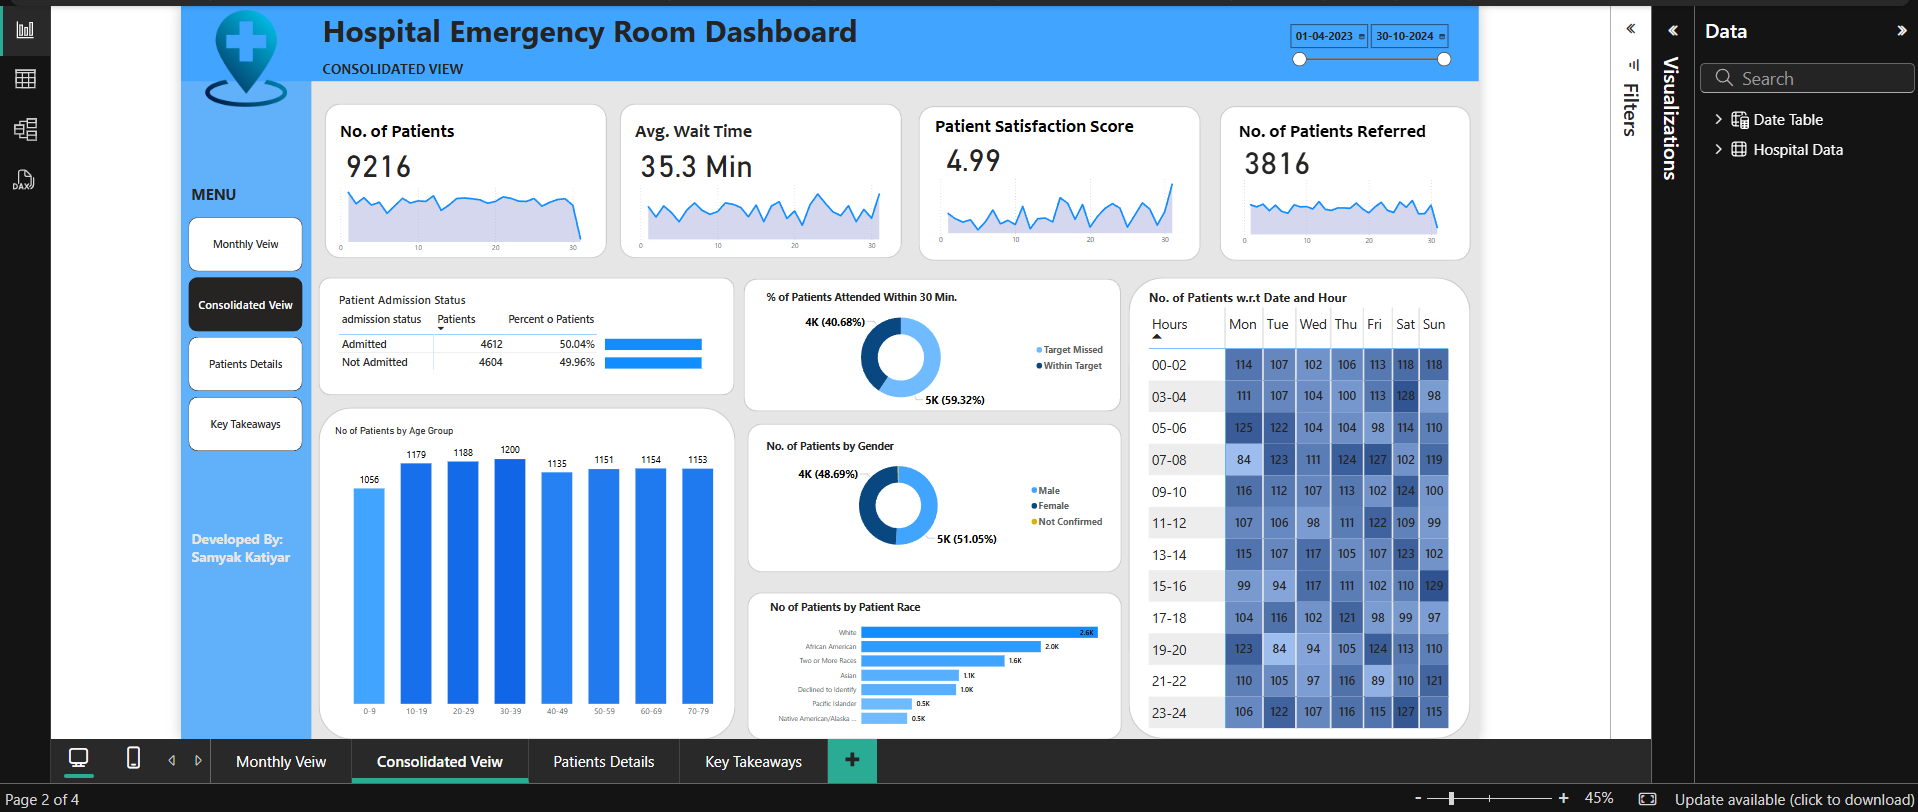

Layout of this report page (visuals, bound fields, positions):
{"tool":"powerbi","page":{"name":"Consolidated Veiw","canvas":[2300,1300],"ordinal":1},"visuals":[{"type":"shape","box":[0,0,231,1300],"z":0},{"type":"image","box":[0,0,231.2,118.8],"z":1000},{"type":"shape","box":[0,0,2300,133.3],"z":2000},{"type":"textbox","box":[245.9,2.2,1001.4,88.6],"z":3000},{"type":"textbox","box":[245.9,90.8,292.4,53.2],"z":4000},{"type":"slicer","fields":{"Values":["Date Table.Date"]},"box":[1954.9,21.6,305.9,123.5],"z":5000},{"type":"shape","box":[244.7,710.5,739.5,589.5],"z":6000},{"type":"shape","box":[243.8,481.2,737.5,209.4],"z":7000},{"type":"pivotTable","title":"Patient Admission Status","fields":{"Rows":["Hospital Data.admission status"],"Values":["Hospital Data.No of Patients","CountNonNull(Hospital Data.Patient Admission Flag)"]},"box":[275,508.3,525,210.4],"z":8000},{"type":"barChart","fields":{"Category":["Hospital Data.admission status"],"Y":["Hospital Data.No of Patients"]},"box":[745.8,560.4,233.3,106.2],"z":9000},{"type":"columnChart","fields":{"Category":["Hospital Data.Age Group"],"Y":["Hospital Data.No of Patients"]},"box":[268.4,742.1,715.8,528.9],"z":10000},{"type":"shape","title":"% of patients attended Within 30 Min.","box":[997.4,482.1,669.2,235.9],"z":11000},{"type":"donutChart","title":"% of Patients Attended Within 30 Min.","fields":{"Category":["Hospital Data.WaitTime Status"],"Y":["Hospital Data.No of Patients"]},"box":[1033.3,502.6,615.4,215.4],"z":12000},{"type":"shape","title":"% of patients attended Within 30 Min.","box":[1002.6,741,664.1,264.1],"z":13000},{"type":"donutChart","title":"No. of Patients by Gender","fields":{"Y":["Hospital Data.No of Patients"],"Category":["Hospital Data.Patient Gender"]},"box":[1033.3,766.7,615.4,212.8],"z":14000},{"type":"shape","title":"% of patients attended Within 30 Min.","box":[1002.6,1038.5,664.1,261.5],"z":15000},{"type":"clusteredBarChart","fields":{"Y":["Hospital Data.No of Patients"],"Category":["Hospital Data.Patient Race"]},"box":[1038.5,1051.3,615.4,235.9],"z":16000},{"type":"shape","title":"% of patients attended Within 30 Min.","box":[1679.6,481.6,606.1,818.4],"z":17000},{"type":"pivotTable","title":"No. of Patients w.r.t Date and Hour","fields":{"Rows":["Hospital Data.waitime Interval"],"Columns":["Date Table.Day Name"],"Values":["Hospital Data.No of Patients"]},"box":[1709.8,501.6,577,785.2],"z":18000},{"type":"image","box":[0,2.2,230.4,181.7],"z":19000},{"type":"pageNavigator","box":[14.3,373.5,202,416.3],"z":20000},{"type":"textbox","box":[14.3,310.2,159.2,63.3],"z":21000},{"type":"shape","box":[777.6,172.8,500.7,274.7],"z":22000},{"type":"shape","box":[254.8,172.8,500.7,274.7],"z":23000},{"type":"card","fields":{"Values":["Hospital Data.No of Patients"]},"box":[276.9,239.3,146.2,77.5],"z":24000},{"type":"textbox","box":[276.9,197.2,228.2,53.2],"z":25000},{"type":"areaChart","fields":{"Category":["Hospital Data.Patient Admission Date.Variation.Date Hierarchy.Day"],"Y":["Hospital Data.No of Patients"]},"box":[268.1,310.2,509.5,137.4],"z":26000},{"type":"card","fields":{"Values":["Hospital Data.avg_wait_time"]},"box":[799.8,239.3,228.2,77.5],"z":27000},{"type":"textbox","box":[799.8,197.2,228.2,53.2],"z":28000},{"type":"areaChart","fields":{"Category":["Hospital Data.Patient Admission Date.Variation.Date Hierarchy.Day"],"Y":["Avg(Hospital Data.Patient Waittime)"]},"box":[799.8,305.7,507.3,137.4],"z":29000},{"type":"shape","box":[1307.1,177.2,500.7,274.7],"z":30000},{"type":"card","fields":{"Values":["Avg(Hospital Data.Patient Satisfaction Score)"]},"box":[1331.5,228.2,146.2,77.5],"z":31000},{"type":"textbox","box":[1331.5,188.3,392.1,90.8],"z":32000},{"type":"areaChart","fields":{"Category":["Hospital Data.Patient Admission Date.Variation.Date Hierarchy.Day"],"Y":["Avg(Hospital Data.Patient Satisfaction Score)"]},"box":[1331.5,294.7,494,137.4],"z":33000},{"type":"shape","box":[1841,177.2,445.3,274.7],"z":34000},{"type":"card","fields":{"Values":["Hospital Data.Patient Referred"]},"box":[1869.8,232.6,146.2,77.5],"z":35000},{"type":"textbox","box":[1869.8,197.2,378.8,51],"z":36000},{"type":"areaChart","fields":{"Category":["Hospital Data.Patient Admission Date.Variation.Date Hierarchy.Day"],"Y":["Hospital Data.Patient Referred"]},"box":[1869.8,296.9,416.5,137.4],"z":37000},{"type":"textbox","box":[13.3,923.8,217.1,95.3],"z":38000}]}

Visuals, with their boxes on the page's 2300x1300 design canvas (x1, y1, x2, y2). These are canvas units, not pixel positions in the 1918x812 screenshot, which may show the page scaled, cropped or inside an application window:
shape: (left=0, top=0, right=231, bottom=1300)
image: (left=0, top=0, right=231, bottom=119)
shape: (left=0, top=0, right=2300, bottom=133)
textbox: (left=246, top=2, right=1247, bottom=91)
textbox: (left=246, top=91, right=538, bottom=144)
slicer - Date Table.Date: (left=1955, top=22, right=2261, bottom=145)
shape: (left=245, top=710, right=984, bottom=1300)
shape: (left=244, top=481, right=981, bottom=691)
"Patient Admission Status" pivotTable: (left=275, top=508, right=800, bottom=719)
barChart - Hospital Data.admission status x Hospital Data.No of Patients: (left=746, top=560, right=979, bottom=667)
columnChart - Hospital Data.Age Group x Hospital Data.No of Patients: (left=268, top=742, right=984, bottom=1271)
"% of patients attended Within 30 Min." shape: (left=997, top=482, right=1667, bottom=718)
"% of Patients Attended Within 30 Min." donutChart: (left=1033, top=503, right=1649, bottom=718)
"% of patients attended Within 30 Min." shape: (left=1003, top=741, right=1667, bottom=1005)
"No. of Patients by Gender" donutChart: (left=1033, top=767, right=1649, bottom=980)
"% of patients attended Within 30 Min." shape: (left=1003, top=1038, right=1667, bottom=1300)
clusteredBarChart - Hospital Data.No of Patients x Hospital Data.Patient Race: (left=1038, top=1051, right=1654, bottom=1287)
"% of patients attended Within 30 Min." shape: (left=1680, top=482, right=2286, bottom=1300)
"No. of Patients w.r.t Date and Hour" pivotTable: (left=1710, top=502, right=2287, bottom=1287)
image: (left=0, top=2, right=230, bottom=184)
pageNavigator: (left=14, top=374, right=216, bottom=790)
textbox: (left=14, top=310, right=174, bottom=374)
shape: (left=778, top=173, right=1278, bottom=448)
shape: (left=255, top=173, right=756, bottom=448)
card - Hospital Data.No of Patients: (left=277, top=239, right=423, bottom=317)
textbox: (left=277, top=197, right=505, bottom=250)
areaChart - Hospital Data.Patient Admission Date.Variation.Date Hierarchy.Day x Hospital Data.No of Patients: (left=268, top=310, right=778, bottom=448)
card - Hospital Data.avg_wait_time: (left=800, top=239, right=1028, bottom=317)
textbox: (left=800, top=197, right=1028, bottom=250)
areaChart - Hospital Data.Patient Admission Date.Variation.Date Hierarchy.Day x Avg(Hospital Data.Patient Waittime): (left=800, top=306, right=1307, bottom=443)
shape: (left=1307, top=177, right=1808, bottom=452)
card - Avg(Hospital Data.Patient Satisfaction Score): (left=1332, top=228, right=1478, bottom=306)
textbox: (left=1332, top=188, right=1724, bottom=279)
areaChart - Hospital Data.Patient Admission Date.Variation.Date Hierarchy.Day x Avg(Hospital Data.Patient Satisfaction Score): (left=1332, top=295, right=1826, bottom=432)
shape: (left=1841, top=177, right=2286, bottom=452)
card - Hospital Data.Patient Referred: (left=1870, top=233, right=2016, bottom=310)
textbox: (left=1870, top=197, right=2249, bottom=248)
areaChart - Hospital Data.Patient Admission Date.Variation.Date Hierarchy.Day x Hospital Data.Patient Referred: (left=1870, top=297, right=2286, bottom=434)
textbox: (left=13, top=924, right=230, bottom=1019)
